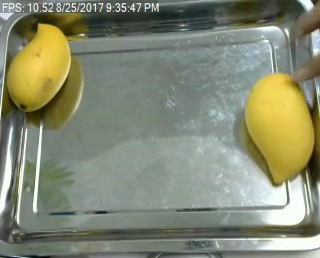Mango: (236, 72, 317, 186), (4, 19, 76, 111)
